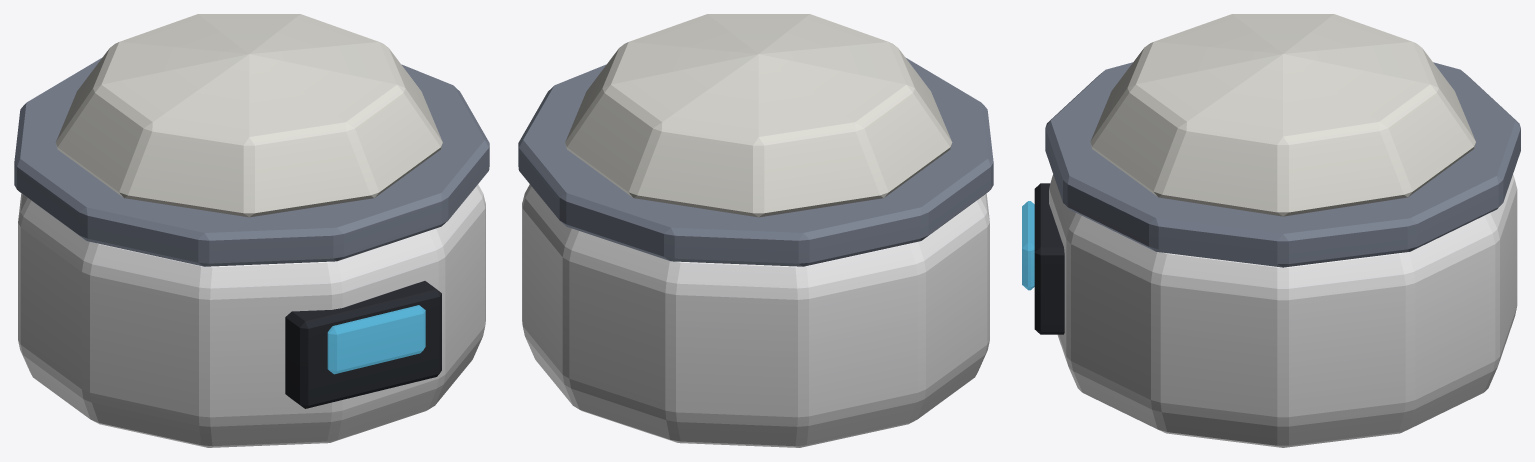
The model's file is centrifuge.glb.
3 views of the same model, side by side, from view 1: azimuth 30°, elevation 25°; view 2: azimuth 150°, elevation 25°; view 3: azimuth 270°, elevation 25° (orthographic).
Visible parts, largest first — view 1: centrifuge; view 2: centrifuge; view 3: centrifuge.
Part boxes in pixels (box(x1,y1,x2,y2)): centrifuge: box(14, 14, 489, 447); centrifuge: box(518, 14, 993, 447); centrifuge: box(1022, 14, 1520, 447).
Bounding box in the file's own units: 0.6346 × 0.45 × 0.6726.
2 materials, 2 textured.
